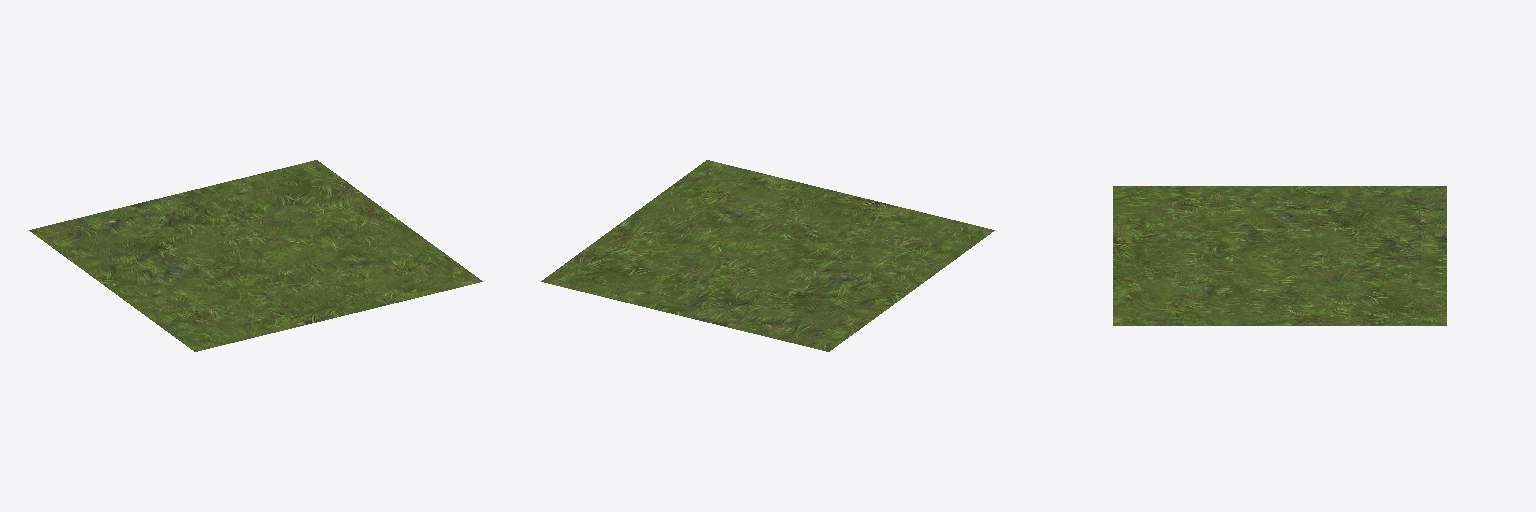
The picture shows the model from 3 angles: view 1: azimuth 30°, elevation 25°; view 2: azimuth 150°, elevation 25°; view 3: azimuth 270°, elevation 25°; orthographic projection.
Visible parts, largest first — view 1: Terrain; view 2: Terrain; view 3: Terrain.
Boxes of the visible parts, box(x1,y1,x2,y2) form: Terrain: box(29, 160, 482, 351); Terrain: box(541, 160, 994, 351); Terrain: box(1113, 186, 1446, 325).
Bounding box in the file's own units: 2 × 0 × 2.
Materials: 1 (1 with a texture image).